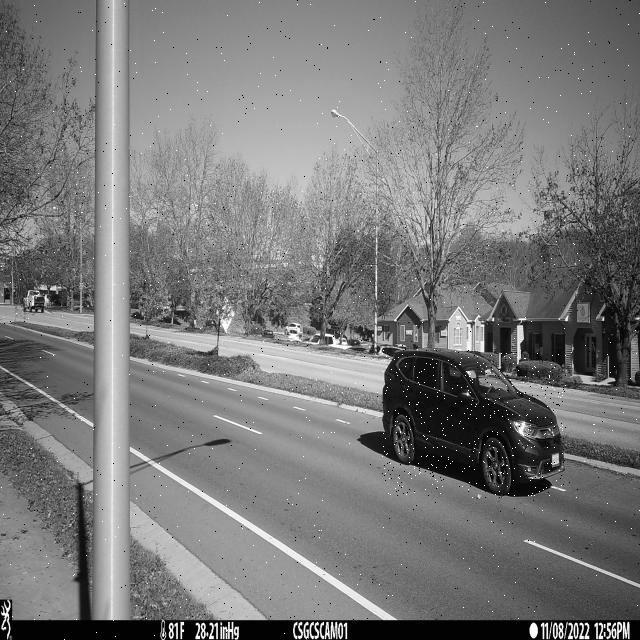SUV: (382, 349, 566, 496)
